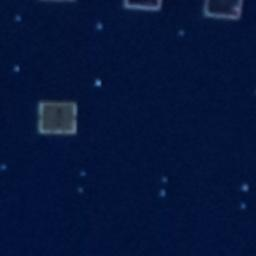square_cover: (30, 93, 81, 139), (199, 1, 248, 25), (121, 1, 166, 13)
